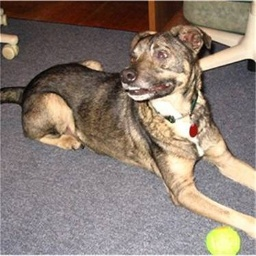dog: (2, 26, 256, 237)
